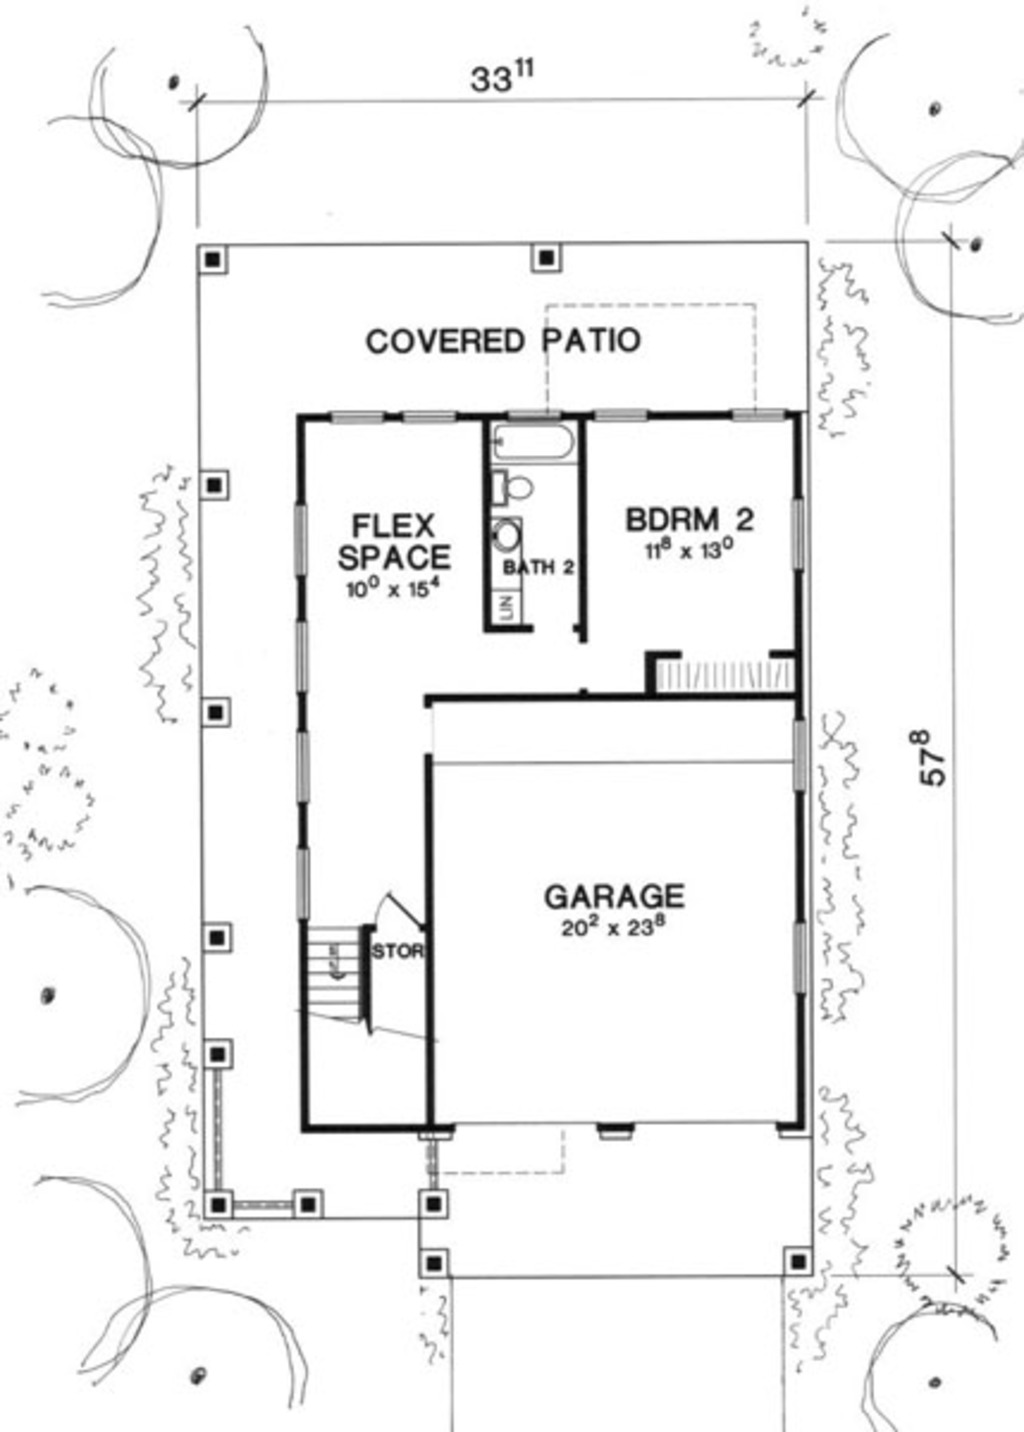door: (369, 892, 417, 933)
large_sink: (484, 463, 543, 513)
small_sink: (477, 513, 532, 580)
stairs: (308, 922, 369, 1063)
tub: (495, 420, 588, 466)
window: (787, 497, 813, 574), (284, 509, 308, 587), (287, 618, 308, 700), (326, 407, 391, 429), (791, 713, 808, 798), (291, 843, 310, 918), (297, 735, 315, 814), (402, 403, 450, 426), (726, 405, 797, 418), (797, 924, 810, 989), (595, 411, 651, 426)
